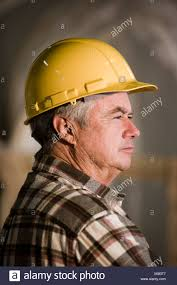Person_wearing_helmet: (22, 37, 153, 139)
